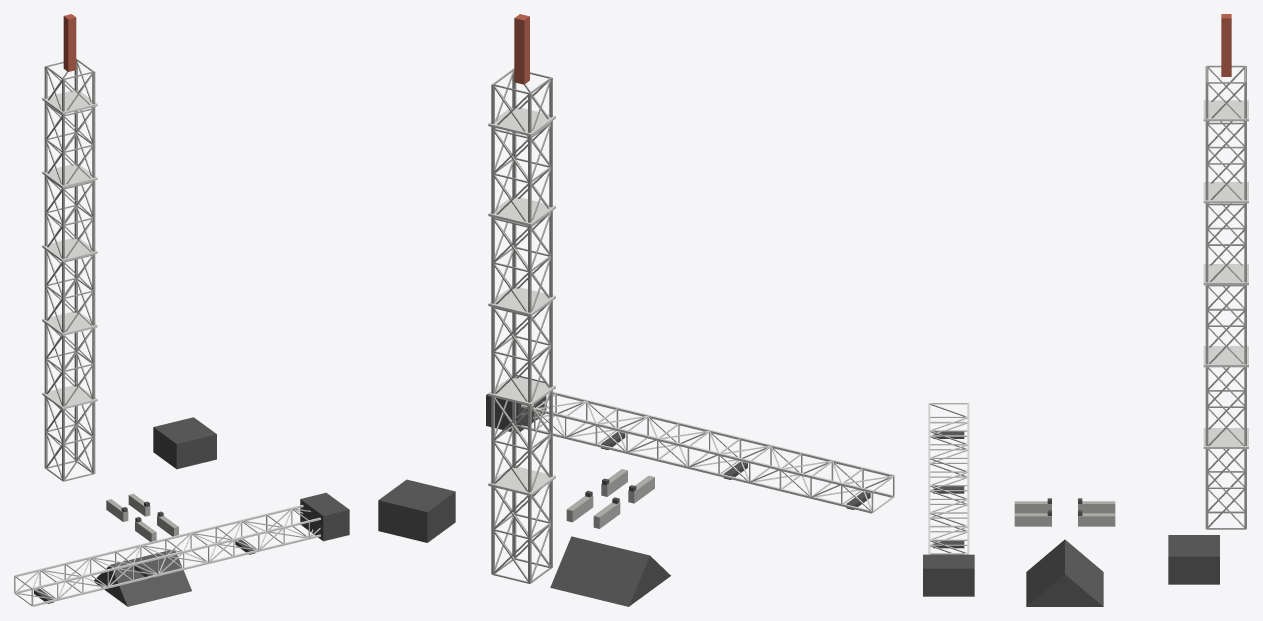
The model's file is Pad_Titan.fbx.
3 renders of one model, left to right at view 1: azimuth 30°, elevation 25°; view 2: azimuth 150°, elevation 25°; view 3: azimuth 270°, elevation 25°, orthographic. The views are drawn at different scales.
Visible parts, largest first — view 1: Pad_Titan; view 2: Pad_Titan; view 3: Pad_Titan.
Boxes of the visible parts, box(x1,y1,x2,y2) form: Pad_Titan: box(14, 14, 349, 606); Pad_Titan: box(378, 14, 894, 606); Pad_Titan: box(923, 14, 1248, 606).
Bounding box in the file's own units: 31.24 × 49 × 25.25.
